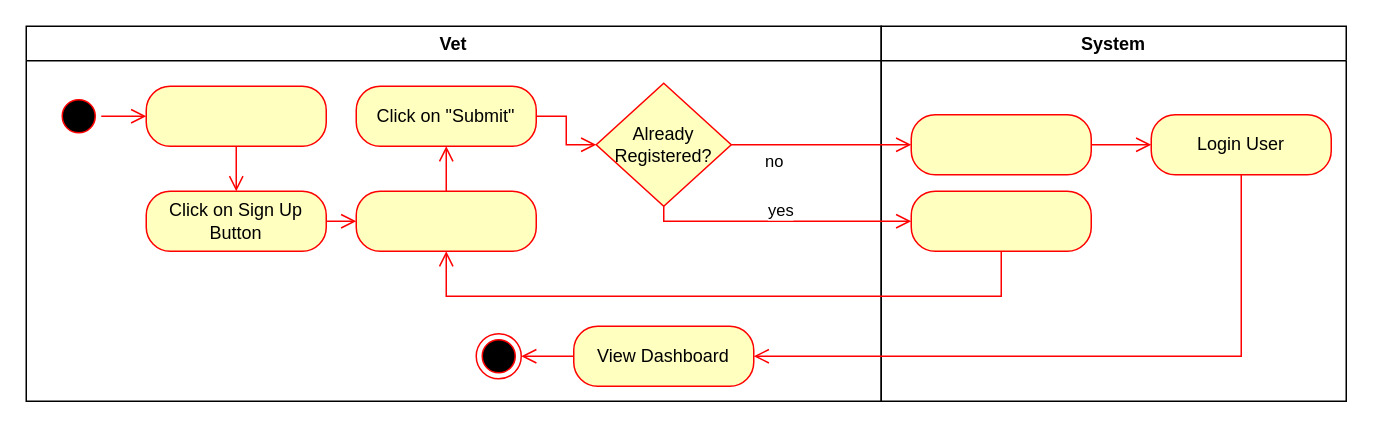
The diagram is 1373 pixels wide and 428 high, and some of its shapes have lost their labels. The box of each missing label's shape, as (x1, y1, x2, y2) in pixels:
Display Relevant Error Message: (910, 190, 1091, 251)
Fill the Registration Form: (355, 190, 536, 251)
Open Web Application: (145, 85, 326, 146)
Register user: (910, 113, 1091, 175)
